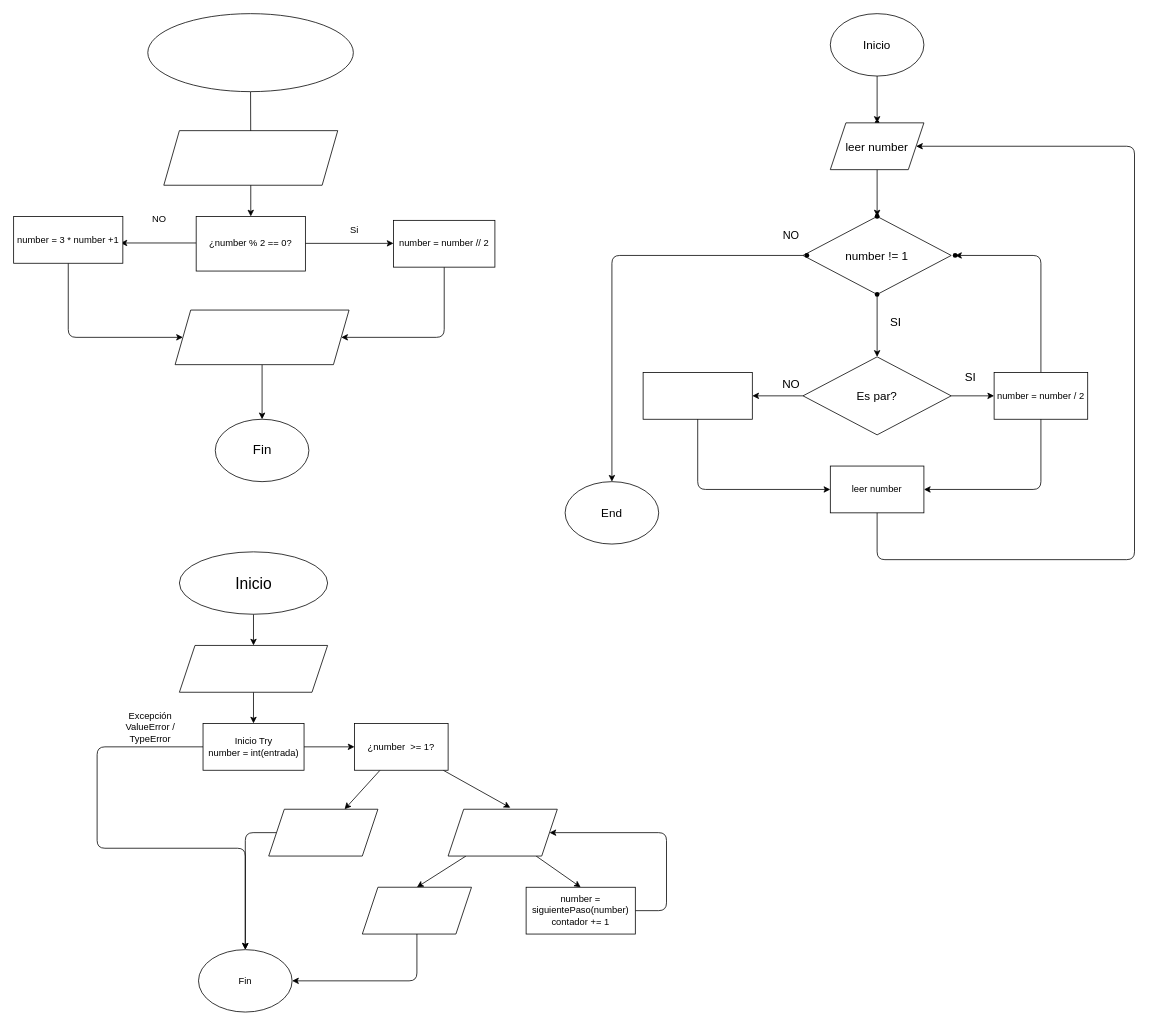
Some shapes in this 1154 by 1026 pixel diagram are drawn without their labels. Each missing label, with the box of its shape:
Inicio siguientePaso(number): (147, 13, 353, 92)
Leer/recibir entrada contador = 0: (179, 645, 328, 692)
number =3 number + 1: (642, 372, 752, 419)
recibir number: (163, 130, 338, 185)
retornar contador: (362, 886, 472, 934)
retornar None: (268, 808, 378, 856)
retornar number: (174, 309, 349, 365)
¿Number != 1?: (447, 808, 557, 856)
